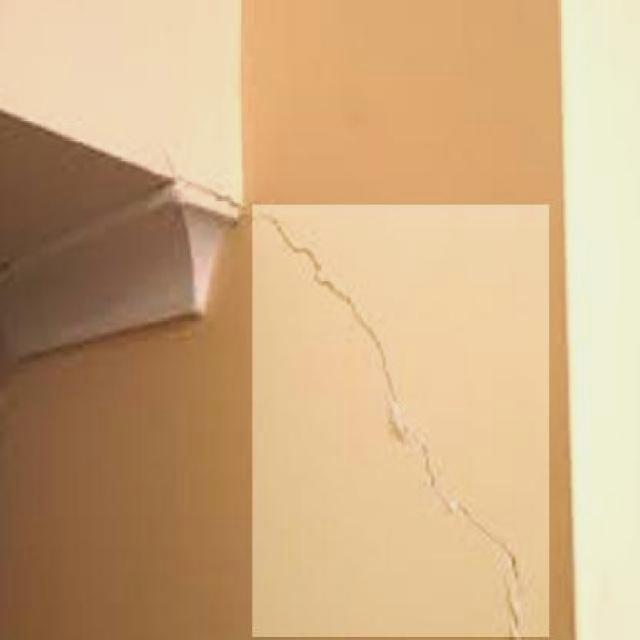crack: (282, 224, 536, 640)
